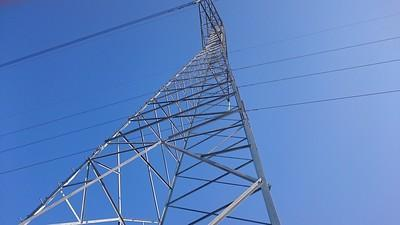power_tower: (16, 0, 281, 225)
